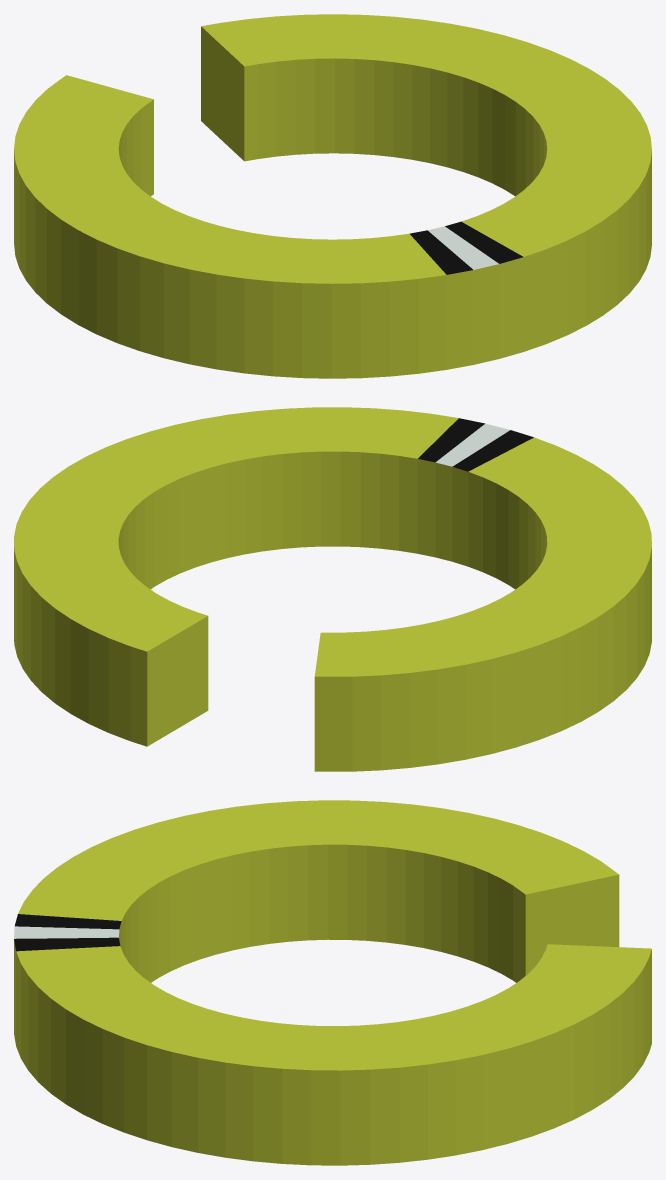
The model's file is gapCircle.fbx.
3 renders of one model, top to bottom at view 1: azimuth 30°, elevation 25°; view 2: azimuth 150°, elevation 25°; view 3: azimuth 270°, elevation 25°, orthographic.
Parts seen in each view (by area): view 1: Cube; view 2: Cube; view 3: Cube.
Boxes of the visible parts, x1,y1,x2,y2 form: Cube: (14, 14, 651, 378); Cube: (14, 407, 651, 771); Cube: (14, 800, 651, 1165).
Bounding box in the file's own units: 1218 × 200 × 1215.
